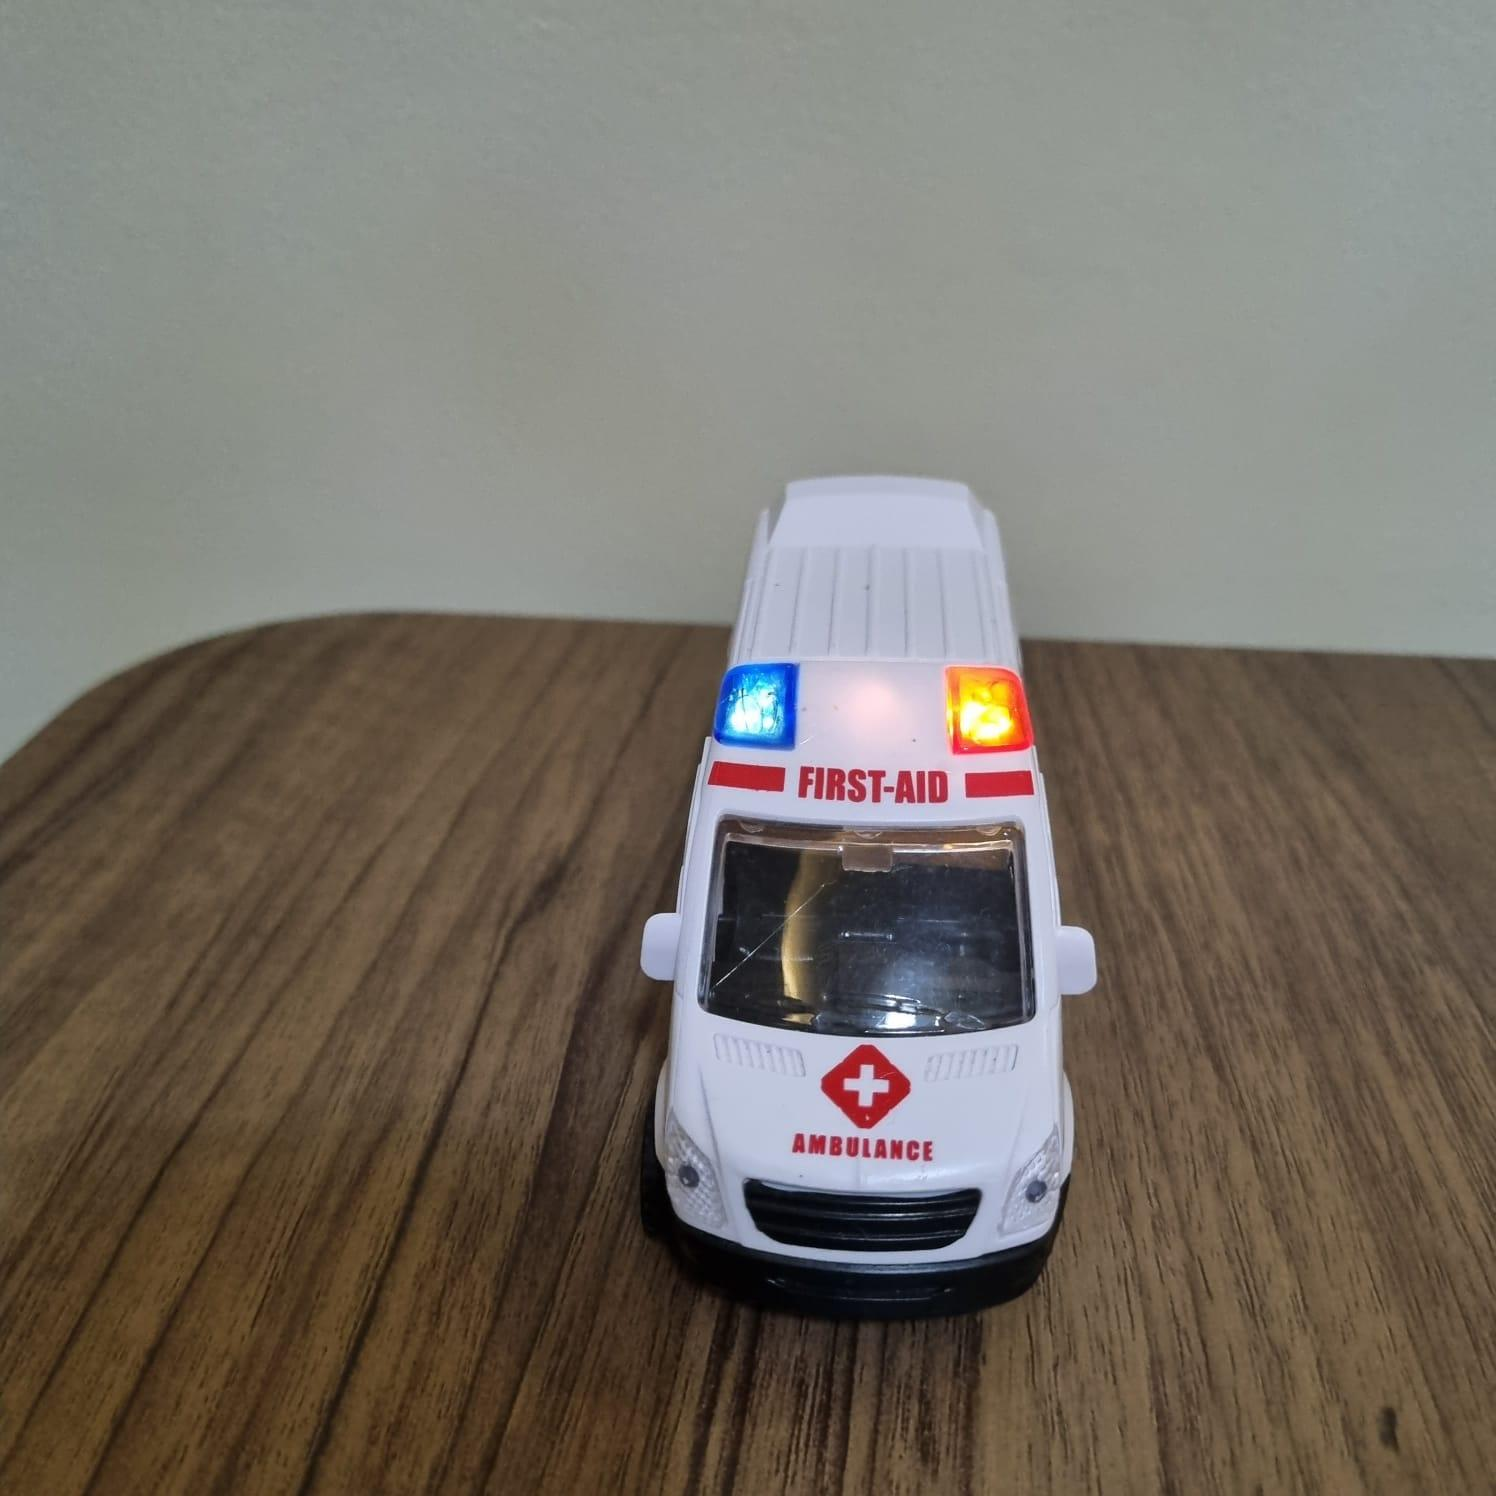ambulance_on: (641, 477, 1097, 1317)
